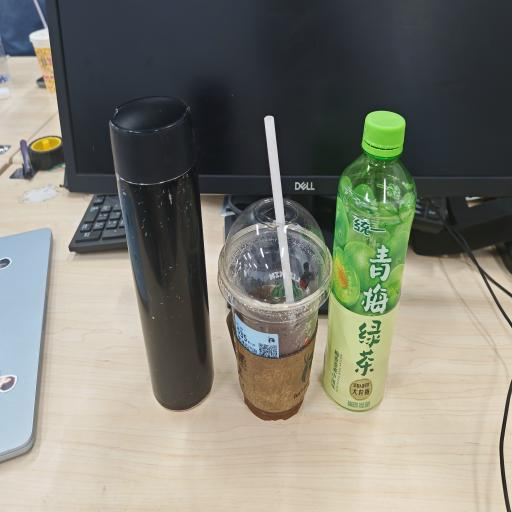laptop: (1, 224, 54, 466)
